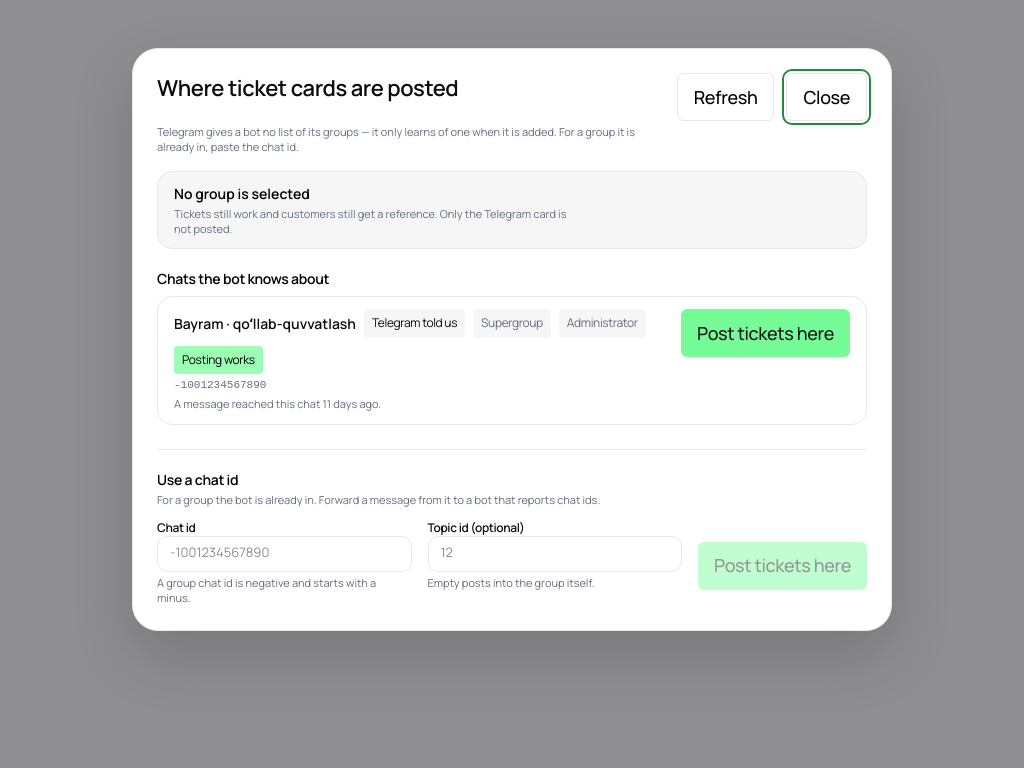
Test: SupportGroupDialog — the refusals › tells an operator a 503 selection HAPPENED, rather than that nothing was written
The image size is (1024, 768).
Click the button with aria-label "post ticket cards to": [766, 333] box [681, 309, 850, 357]
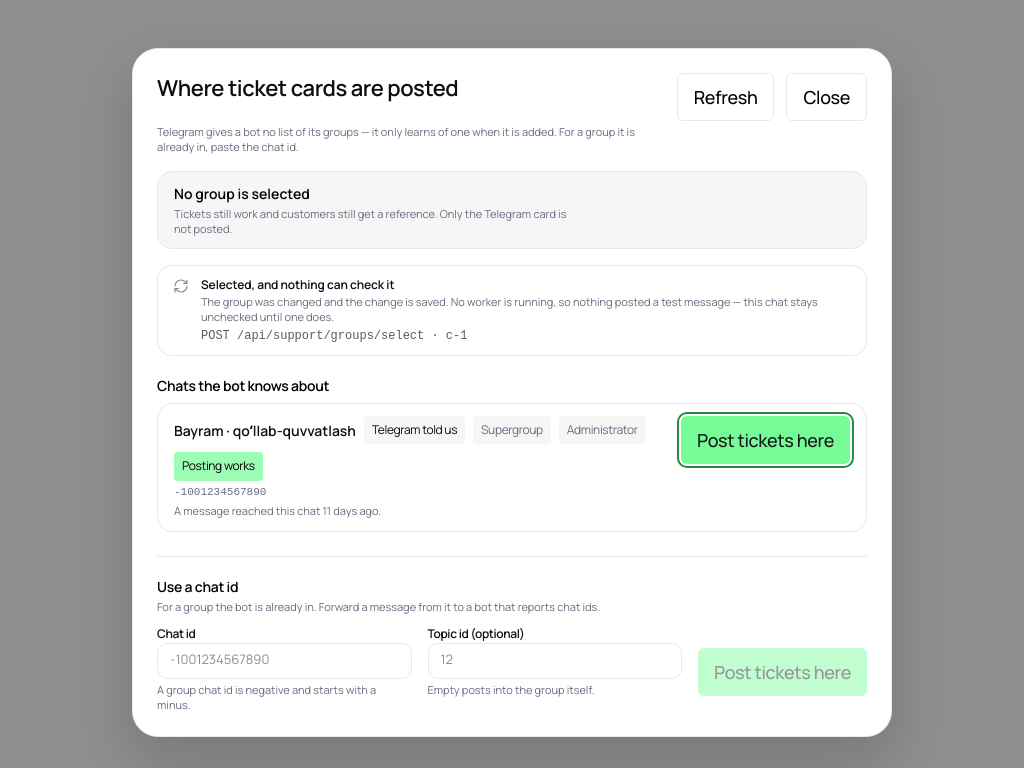
Expected: the text "Selected, and nothing can check it" is shown, [201, 276, 394, 293]
Expected: the text "the change is saved" is shown, [201, 294, 818, 324]
